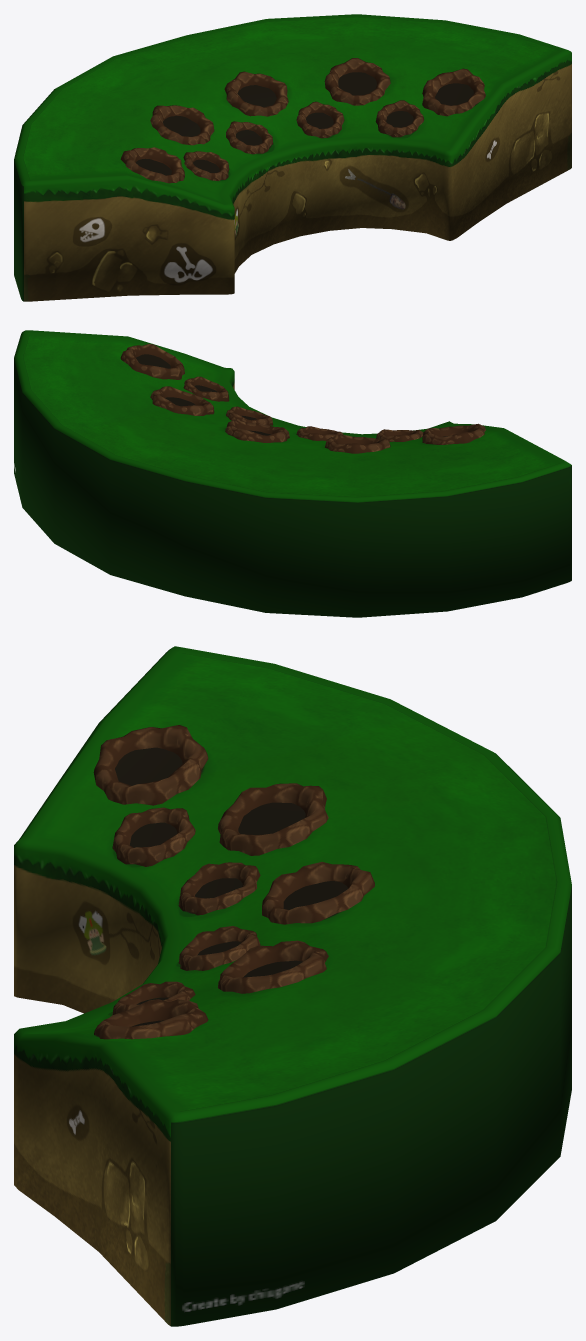
File: dai.fbx
The picture shows the model from 3 angles, top to bottom: view 1: azimuth 30°, elevation 25°; view 2: azimuth 150°, elevation 25°; view 3: azimuth 270°, elevation 25°; orthographic projection. The views are drawn at different scales.
Parts seen in each view (by area): view 1: dai; view 2: dai; view 3: dai.
Part boxes in pixels (<box>): dai: <box>14,14,571,301</box>; dai: <box>14,330,571,617</box>; dai: <box>14,646,571,1326</box>.
Size of the model in its own units: 1328 by 285 by 660.
Materials: 1 (1 with a texture image).
